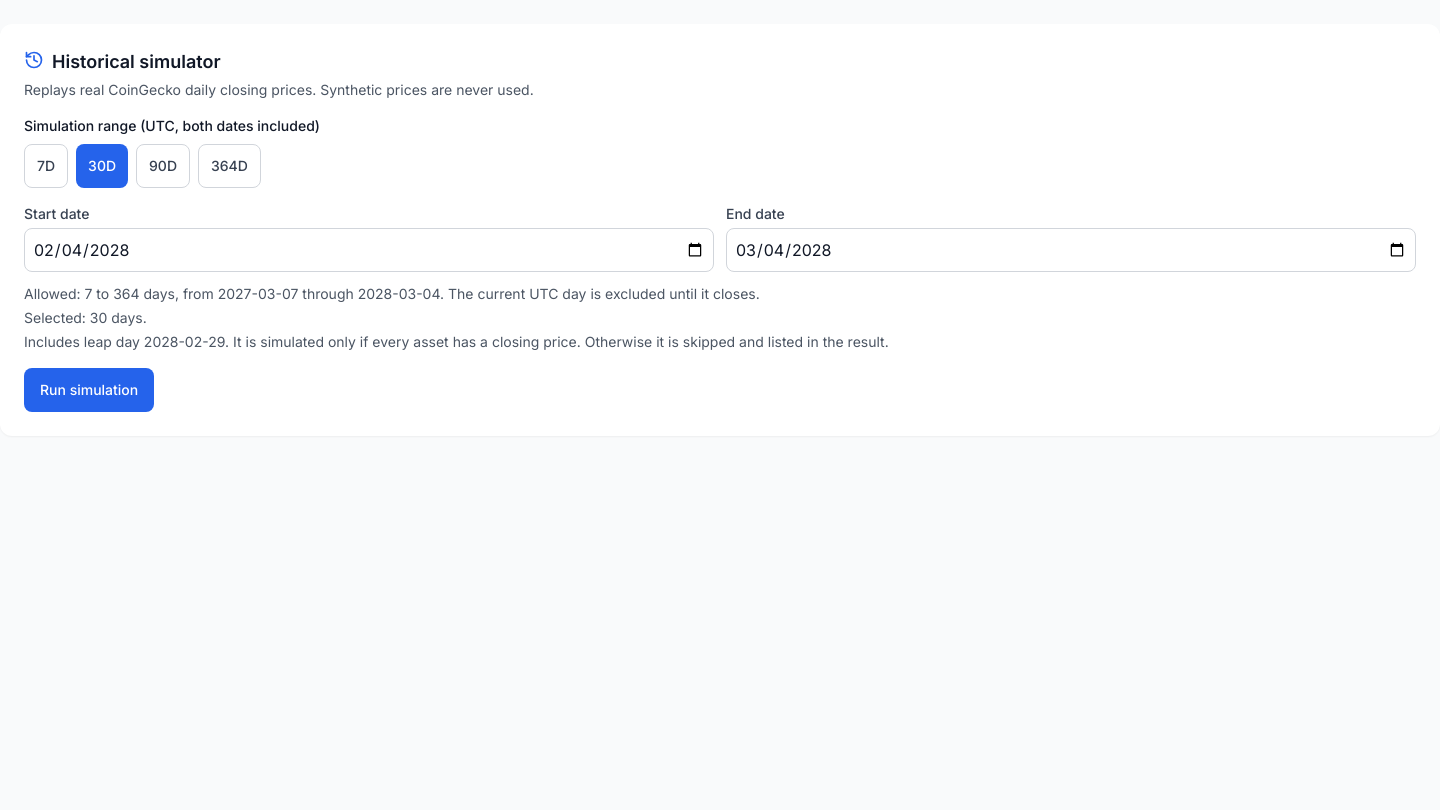
Test: HistoricalSimulator › sends the chosen range and shows the requested range with its data source
Click the button named "Use the last 7 closed days" at (46, 166), box [24,144,68,188]
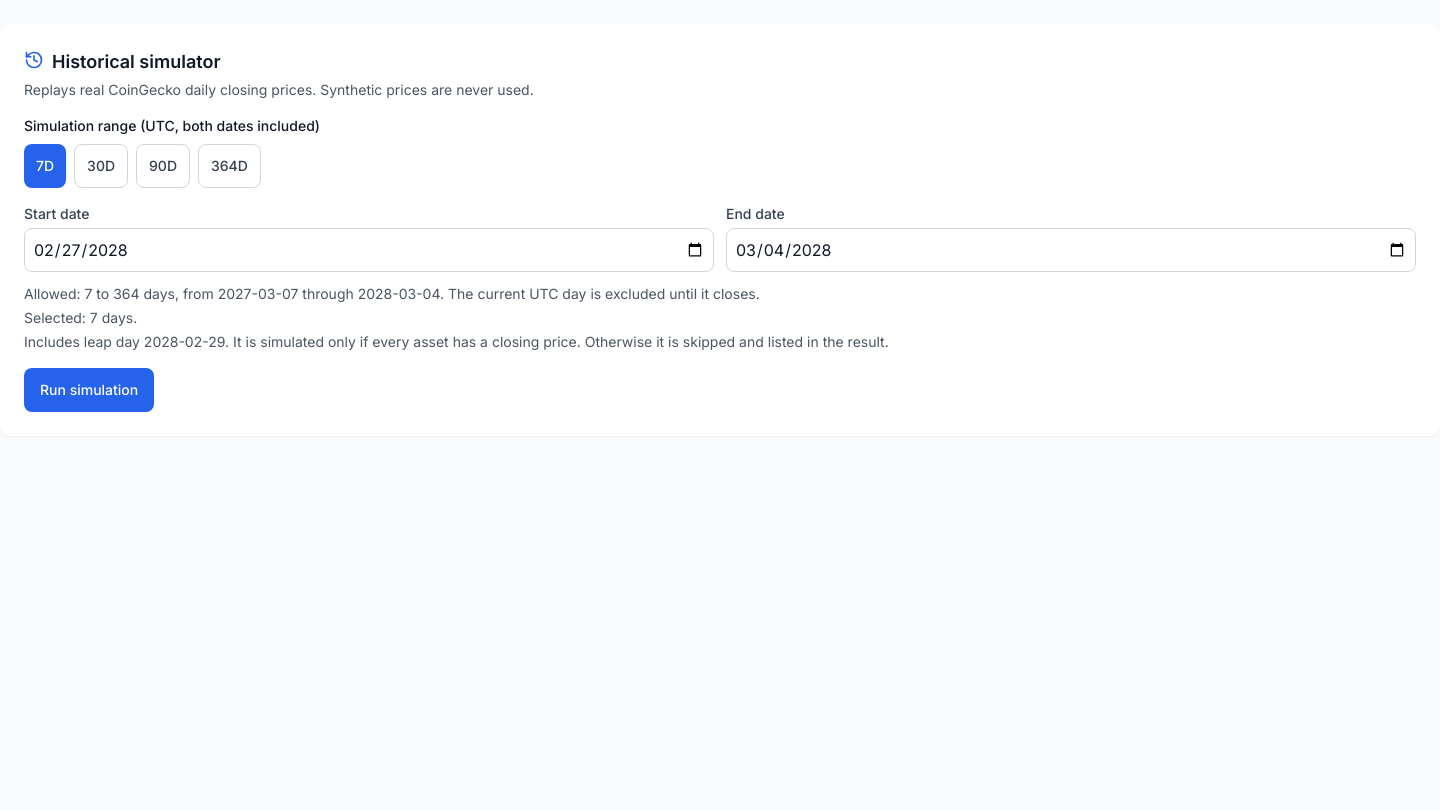
Click the button "Run simulation" at (89, 390), box [24,368,154,412]
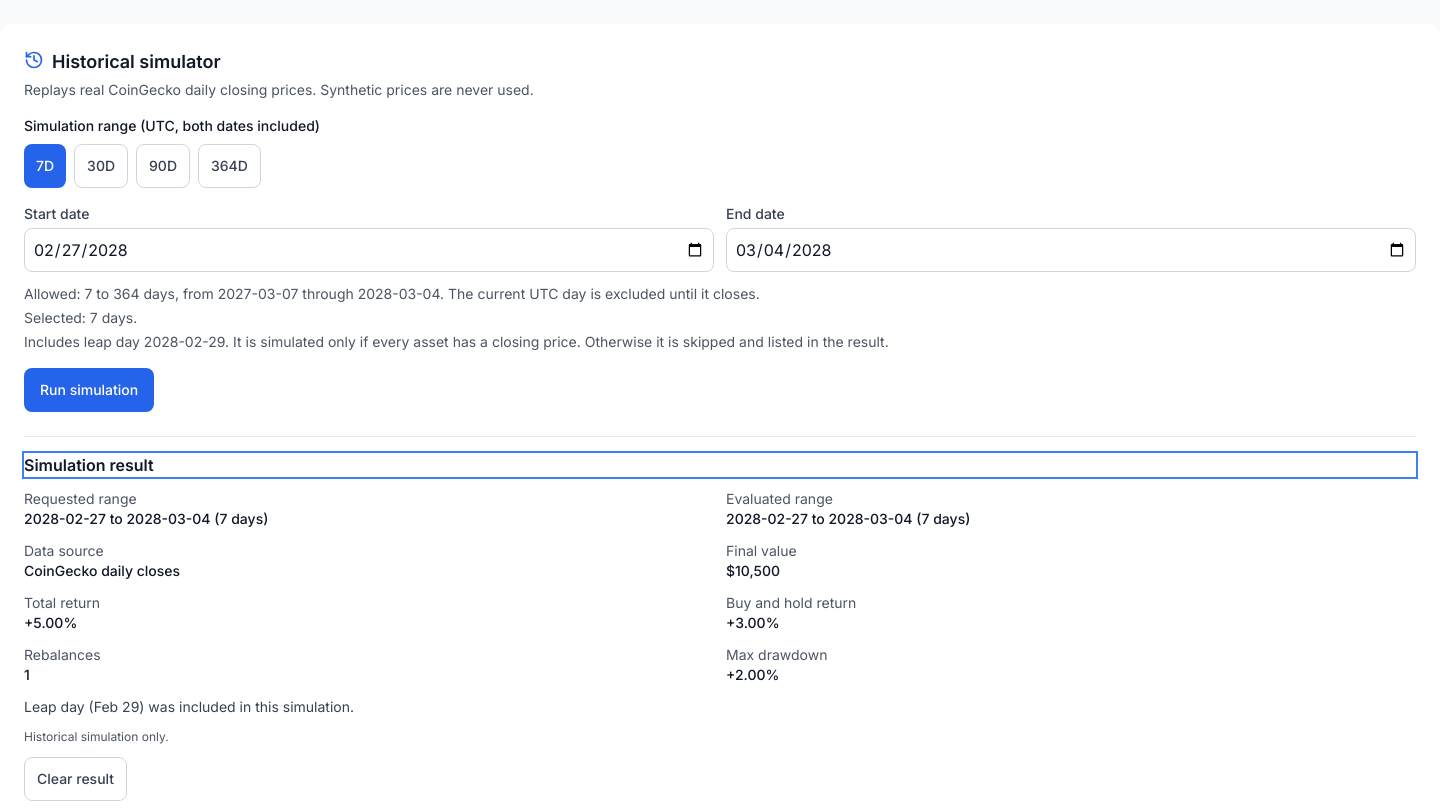
Check: the text "2028-02-27 to 2028-03-04 (7 days)" is shown 2 times, box [24,510,268,527]; [726,510,970,527]
Check: the text "CoinGecko daily closes" is shown, box [24,562,180,579]
Check: the text "Leap day (Feb 29) was included in this simulation." is shown, box [24,698,354,715]
